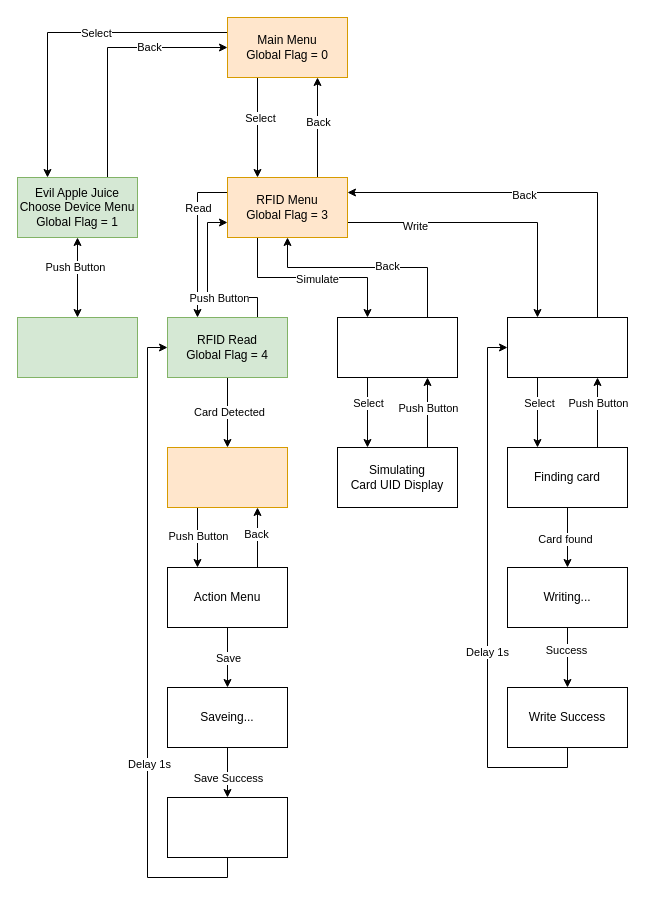
Image size: 645x903. Some labels were removed from this diagram. The shapes that lost their labels are listed below. From the top down, each one's centre as x and y in pixels, then its label:
At point 77,347: "Sending Packet Global Flag = 2".
At point 397,347: "Choose saved card to simulate menu".
At point 567,347: "Choose saved card to write menu".
At point 227,477: "Card Info Display Global Flag = 5".
At point 227,827: "Saved".
